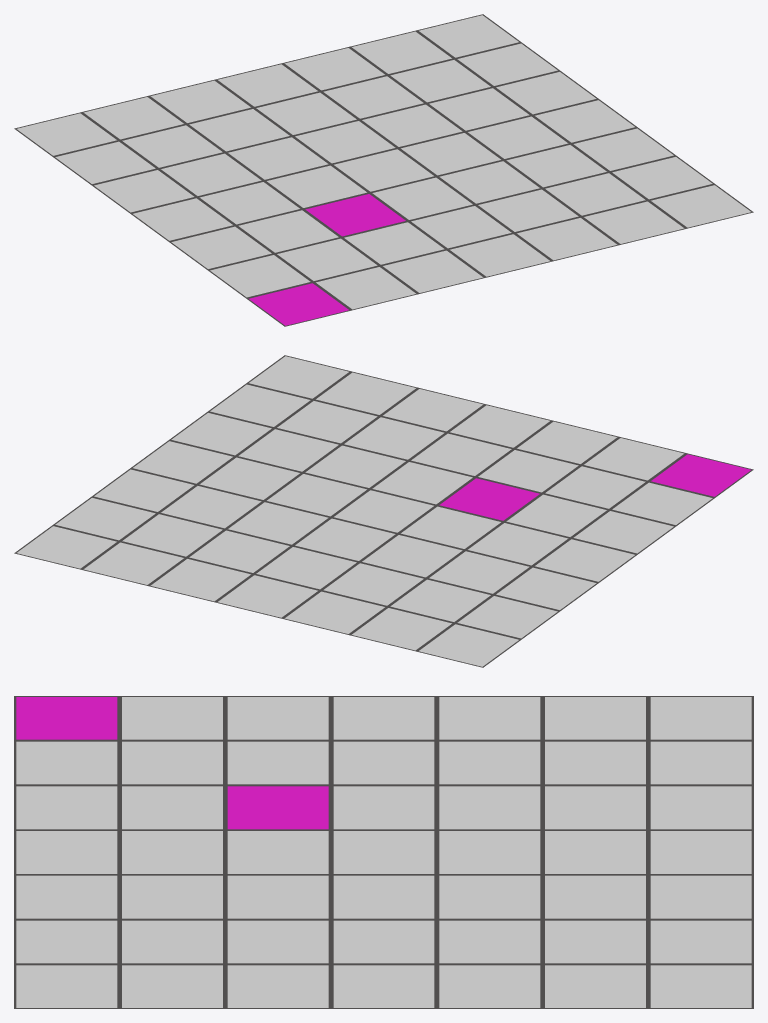
3 renders of one model, top to bottom at view 1: azimuth 30°, elevation 25°; view 2: azimuth 150°, elevation 25°; view 3: azimuth 270°, elevation 25°, orthographic. The views are drawn at different scales.
Parts seen in each view (by area): view 1: Plane.001; view 2: Plane.001; view 3: Plane.001.
Part boxes in pixels (x1=…): Plane.001: x1=14, y1=14, x2=753, y2=326; Plane.001: x1=14, y1=355, x2=753, y2=667; Plane.001: x1=14, y1=696, x2=753, y2=1008.
Bounding box in the file's own units: 1074 × 4.69e-05 × 1074.
